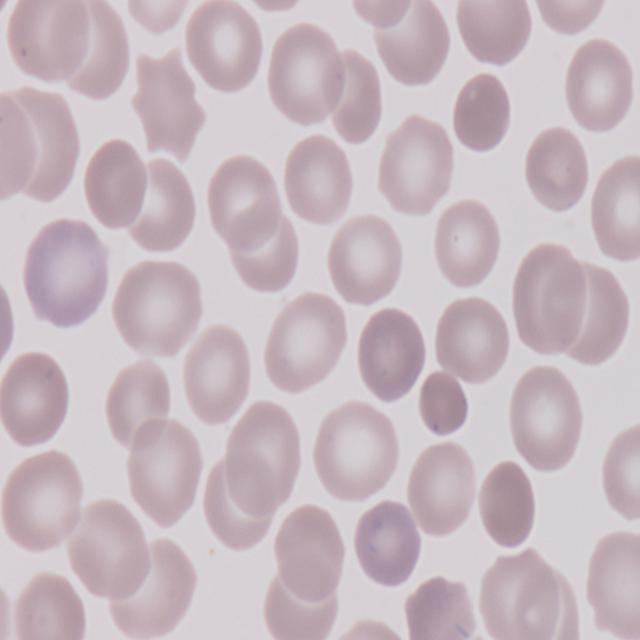RBC: (20, 216, 113, 334), (221, 402, 309, 518), (310, 396, 400, 506), (122, 416, 208, 531), (110, 258, 206, 358), (66, 494, 153, 604), (503, 360, 588, 470), (0, 448, 86, 555), (508, 244, 588, 358), (261, 288, 348, 392), (374, 111, 456, 220), (266, 18, 346, 128), (475, 550, 567, 640), (270, 497, 346, 605), (182, 320, 256, 428), (182, 0, 264, 96), (560, 36, 638, 136), (206, 153, 286, 250), (0, 344, 73, 450), (431, 290, 511, 386), (8, 0, 93, 90), (326, 208, 404, 306), (404, 438, 477, 540), (353, 305, 429, 402), (283, 128, 358, 226), (127, 156, 200, 255), (430, 198, 503, 292), (105, 356, 177, 451), (228, 208, 306, 295), (350, 501, 422, 594), (325, 44, 386, 146), (584, 150, 640, 261), (524, 125, 590, 218), (585, 529, 640, 640), (455, 0, 536, 71), (12, 574, 94, 640), (401, 573, 478, 640), (598, 422, 640, 524), (0, 94, 39, 200), (529, 0, 612, 36), (126, 0, 192, 36), (348, 0, 416, 33), (0, 266, 17, 383), (331, 621, 409, 640), (234, 0, 320, 14)
Spherocyte: (477, 457, 544, 553), (82, 138, 150, 232), (452, 70, 517, 160), (415, 372, 470, 442)
